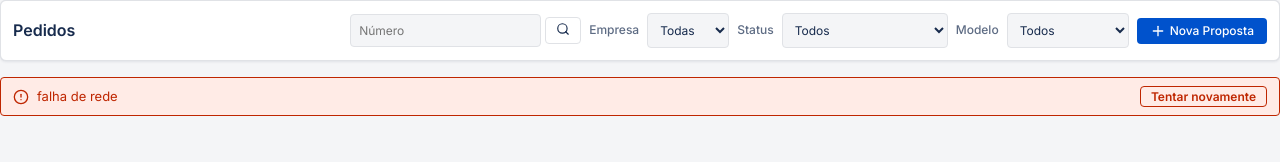
Test: Pedidos › mostra o vazio conforme o filtro e o erro com nova tentativa
This screenshot has width=1280, height=162.
Expected: the text "falha de rede" is shown, [37,87,118,106]
Click the button "Tentar novamente" at coordinates (1203, 96), box [1140,86,1267,107]
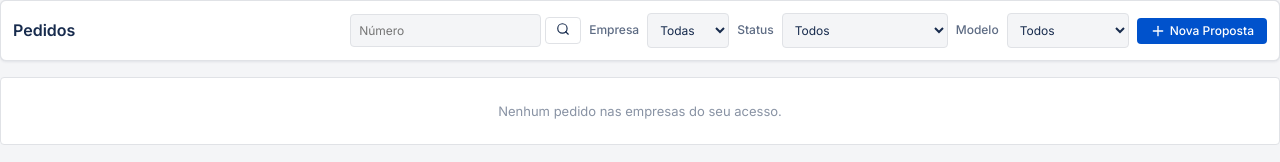
Expected: the text "Nenhum pedido nas empresas do seu acesso." is shown, [0,77,1279,145]
Select "Cancelado" in the dropdown labelled "Status" at coordinates (865, 30), box [782,13,948,48]
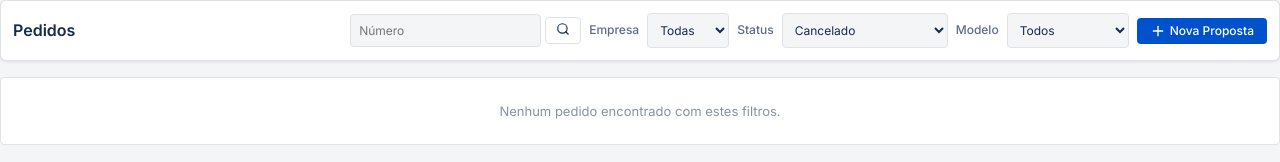
Expected: the text "Nenhum pedido encontrado com estes filtros." is shown, [0,77,1279,145]
